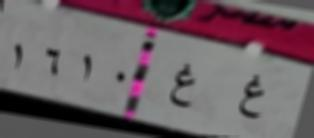0: (112, 62, 130, 93)
1: (75, 47, 103, 88), (7, 36, 27, 72)
6: (38, 46, 67, 77)
ghayn: (167, 59, 199, 110), (238, 71, 267, 125)
